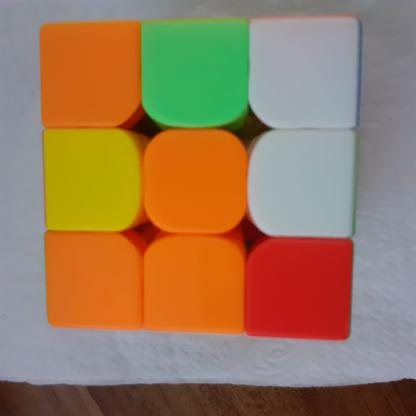cube: (36, 11, 366, 352)
